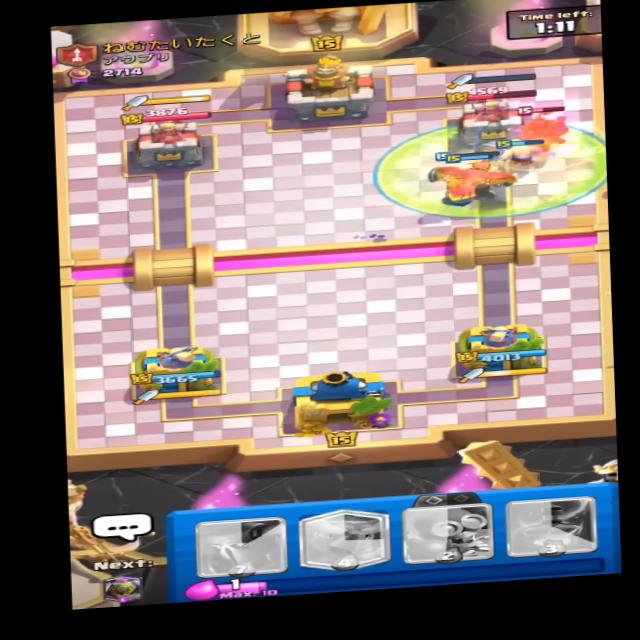prince: (505, 102, 580, 154)
